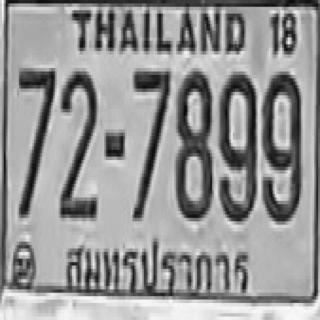N02: (59, 68, 97, 214)
N07: (17, 65, 55, 214), (132, 68, 169, 218)
N08: (174, 68, 210, 218)
N09: (261, 68, 301, 221), (218, 70, 256, 220)
P57: (61, 238, 256, 304)
